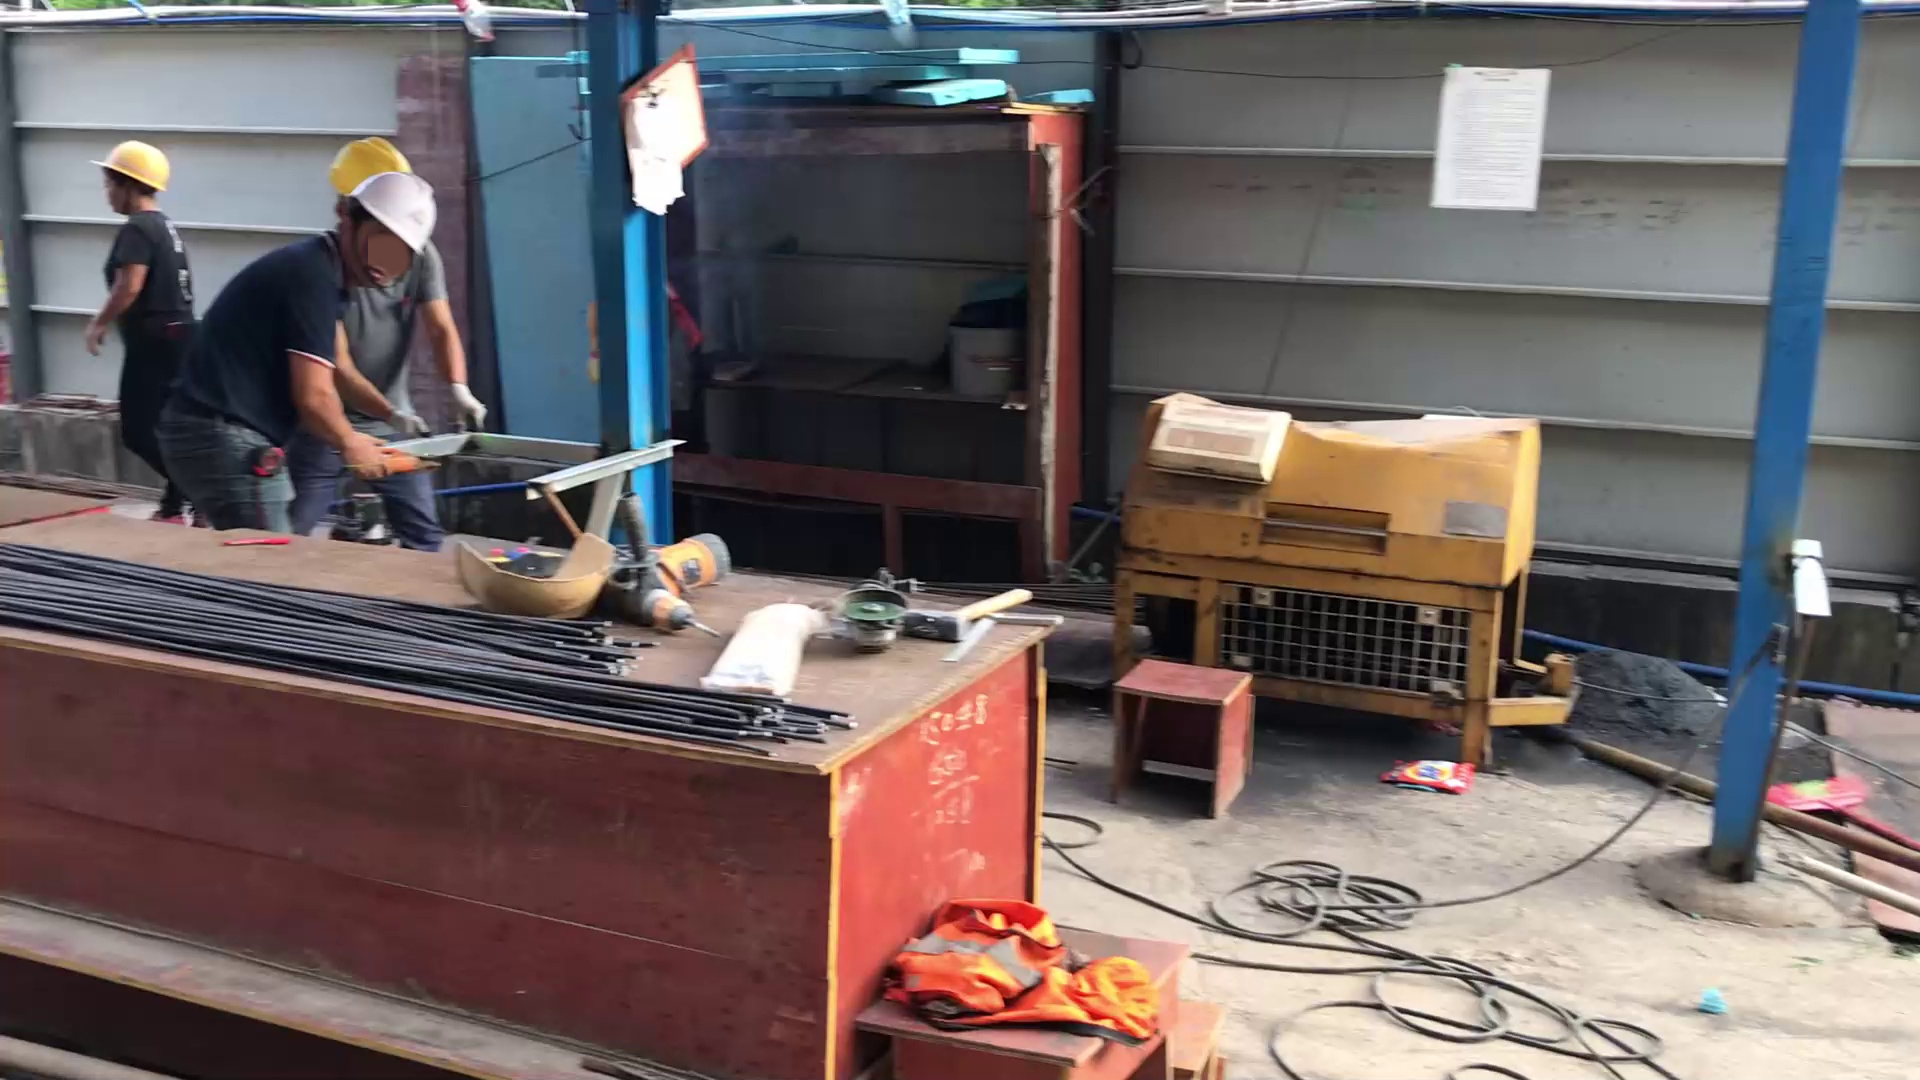helmet: (348, 174, 443, 255), (329, 128, 410, 212), (98, 143, 176, 202)
person: (146, 171, 450, 562), (324, 124, 496, 574), (84, 131, 217, 536)
